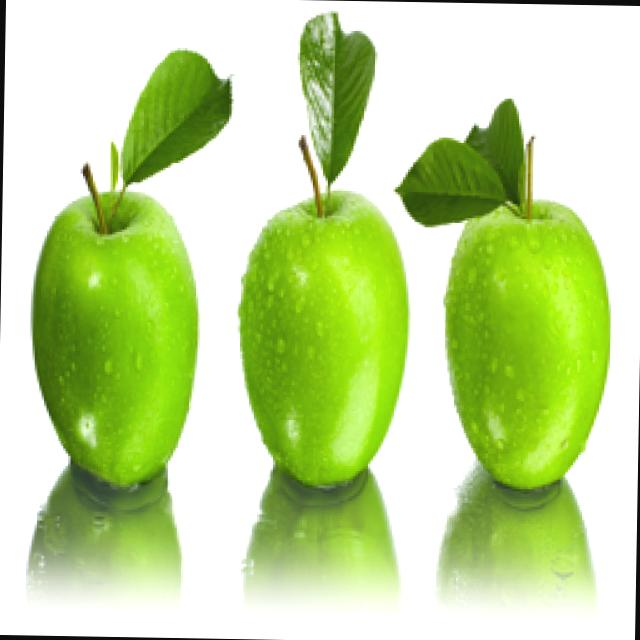Fresh_Apple: (411, 152, 620, 530), (224, 160, 410, 503), (21, 178, 193, 532)
